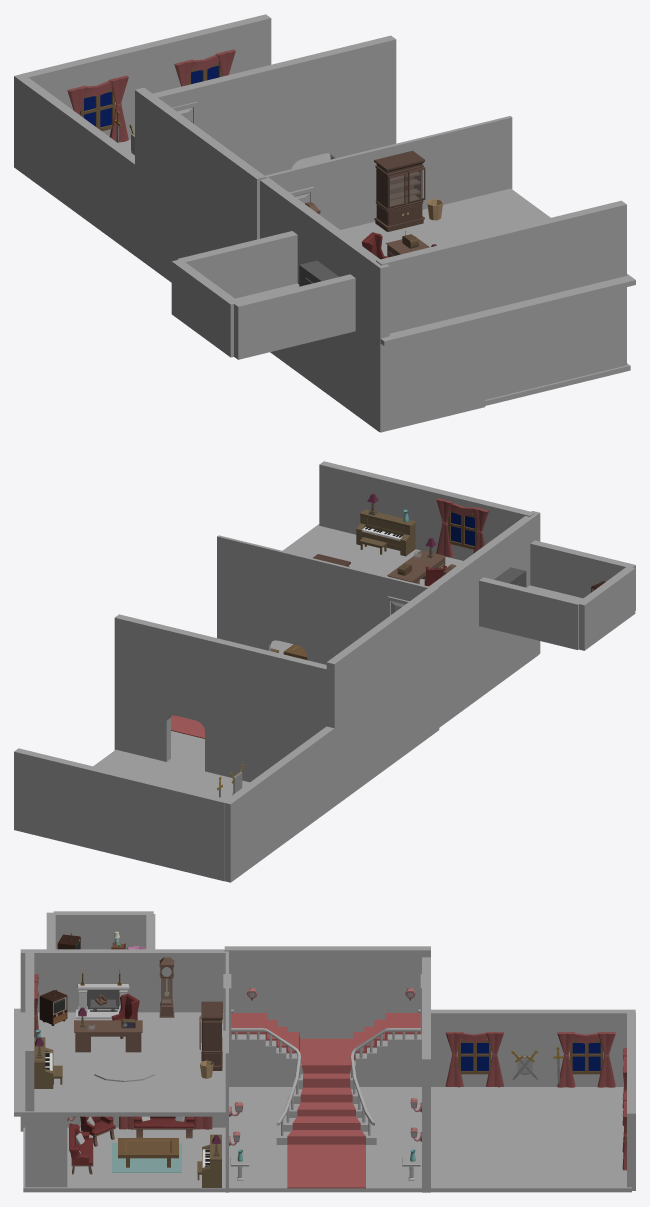
File: Mansion.fbx
The picture shows the model from 3 angles, top to bottom: view 1: azimuth 30°, elevation 25°; view 2: azimuth 150°, elevation 25°; view 3: azimuth 270°, elevation 25°; orthographic projection. The views are drawn at different scales.
Visible parts, largest first — view 1: pCube130, pCube142, pCube107, pCube114, pCube128, pCube144, pCube129, pCube131, pCube150, pCube151, pCube149, pCube35 (+5 smaller); view 2: pCube107, pCube129, pCube114, pCube144, pCube142, pCube128, pCube130, pCube151, pCube98, pCube150, pCube131, pCube149 (+3 smaller); view 3: pCube98, pCube114, pCube131, pCube171, pCube128, pCube142, pCube108, pCube130, pCube149, pCube167, pCube107, pCube129 (+20 smaller).
Part boxes in pixels (<box>): pCube130: <box>376,200,626,399</box>; pCube142: <box>260,177,485,432</box>; pCube107: <box>153,35,396,175</box>; pCube114: <box>135,87,265,282</box>; pCube128: <box>14,74,135,256</box>; pCube144: <box>265,116,512,229</box>; pCube129: <box>21,14,271,139</box>; pCube131: <box>341,188,635,346</box>; pCube150: <box>233,274,355,359</box>; pCube151: <box>177,231,297,298</box>; pCube149: <box>171,259,239,357</box>; pCube35: <box>374,150,424,231</box>; pCube107: <box>114,614,332,782</box>; pCube129: <box>14,748,226,881</box>; pCube114: <box>326,585,439,805</box>; pCube144: <box>217,535,429,664</box>; pCube142: <box>429,511,540,727</box>; pCube128: <box>223,726,335,882</box>; pCube130: <box>319,461,534,560</box>; pCube151: <box>479,577,581,649</box>; pCube98: <box>93,640,538,798</box>; pCube150: <box>530,540,635,610</box>; pCube131: <box>282,524,462,585</box>; pCube149: <box>579,566,635,650</box>; pCube98: <box>23,1087,631,1192</box>; pCube114: <box>224,946,430,1086</box>; pCube131: <box>14,1008,225,1116</box>; pCube171: <box>231,1013,420,1188</box>; pCube128: <box>431,1009,635,1086</box>; pCube142: <box>20,949,225,1131</box>; pCube108: <box>231,1034,421,1144</box>; pCube130: <box>25,949,67,1187</box>; pCube149: <box>53,911,153,949</box>; pCube167: <box>557,1032,615,1087</box>; pCube107: <box>422,957,430,1192</box>; pCube129: <box>627,1012,635,1190</box>.
Size of the model in its own units: 41.43 by 17.46 by 68.81.
